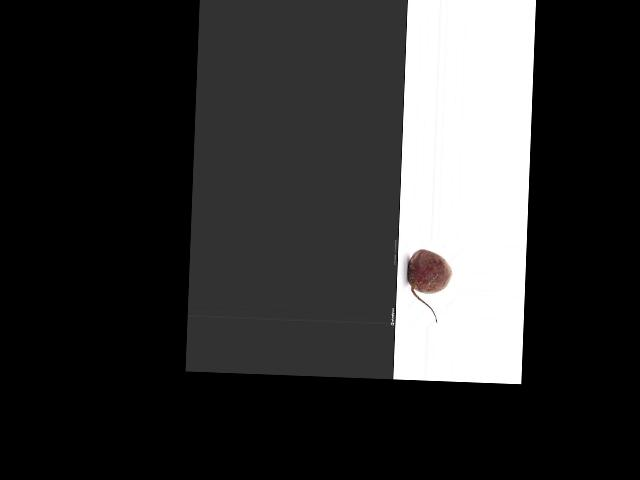beet: (405, 248, 452, 322)
